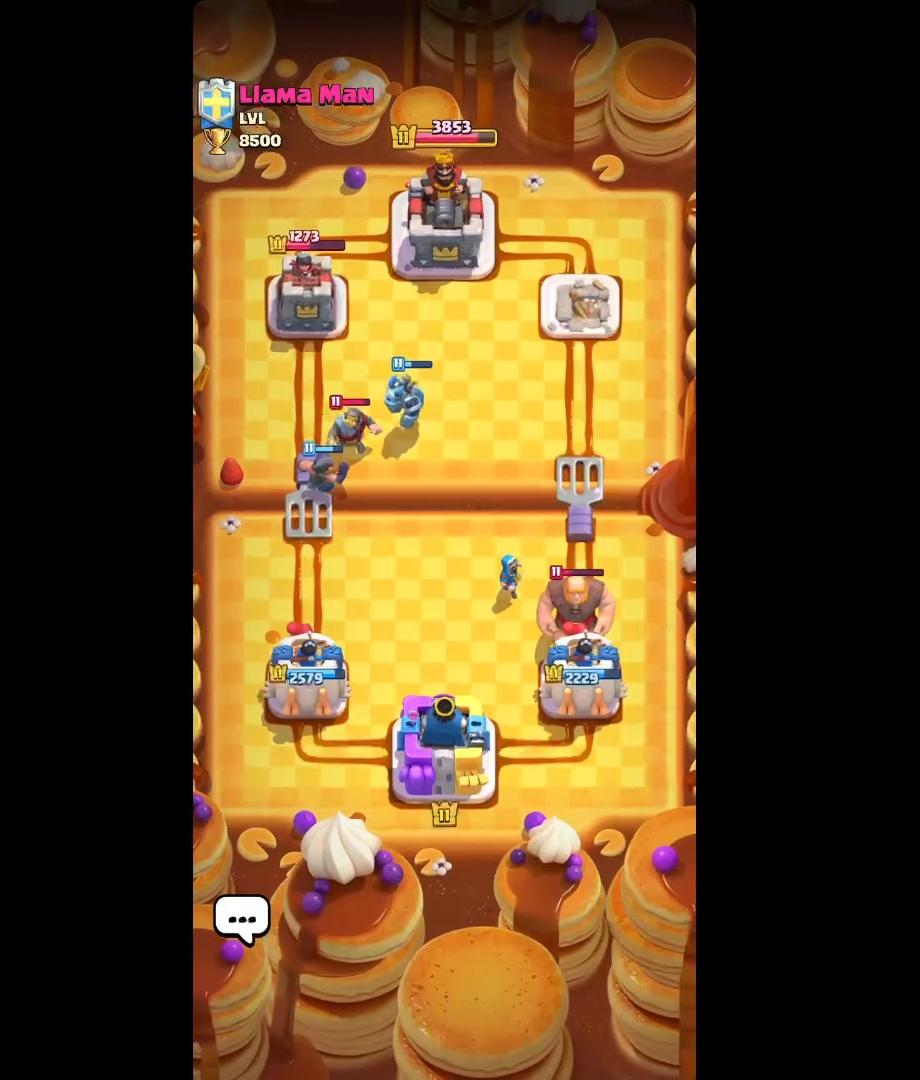Giant: (532, 560, 623, 652)
Knight: (327, 391, 380, 459)
